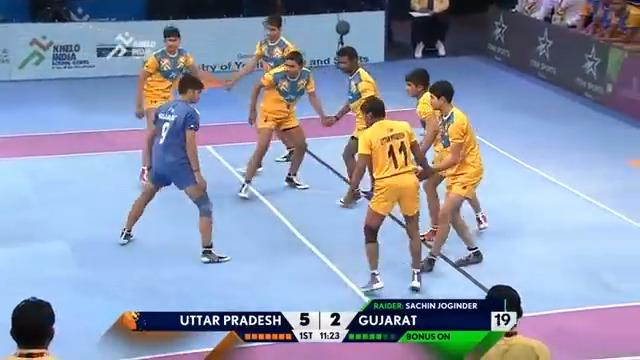Player: (345, 94, 430, 295), (130, 23, 232, 185), (236, 49, 333, 200), (417, 78, 489, 273), (325, 44, 380, 205), (249, 15, 293, 164), (402, 64, 448, 156)
Raider: (116, 72, 233, 265)
referee: (477, 283, 551, 359), (407, 0, 451, 58)
